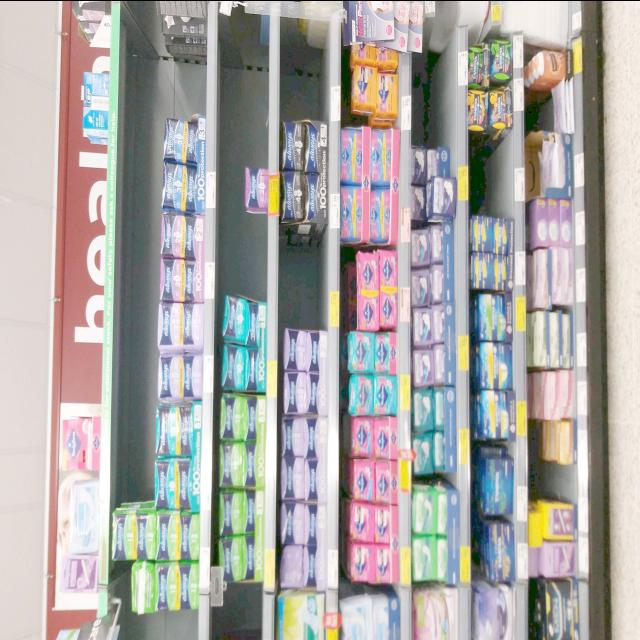empty_space: (223, 34, 269, 152), (224, 234, 268, 290), (292, 238, 322, 318), (156, 65, 200, 111), (419, 60, 449, 124), (295, 38, 322, 108), (478, 149, 507, 199), (141, 616, 195, 640), (224, 598, 259, 634)
